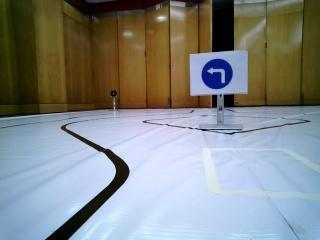left: (187, 56, 244, 92)
